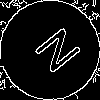N: (25, 25, 83, 82)
